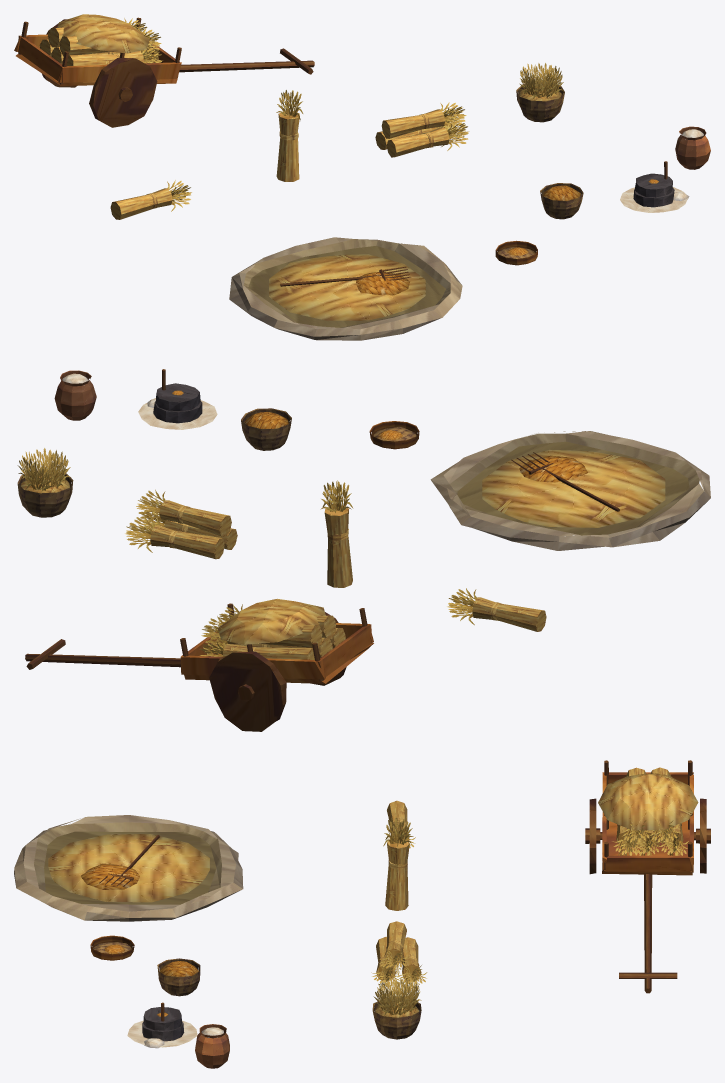
Rendered from colheita.glb.
3 views of the same model, one above another, from view 1: azimuth 30°, elevation 25°; view 2: azimuth 150°, elevation 25°; view 3: azimuth 270°, elevation 25° (orthographic). The views are drawn at different scales.
Visible parts, largest first — view 1: Eira, Carroca, Carroca_Carga, Feixe_Pilha, Cesto_Espigas, Feixe_EmPe, Feixe_Deitado, Cesto_Graos, Jarro_Farinha, Mo_Base, Peneira, Mo_Cima (+1 smaller); view 2: Eira, Carroca, Carroca_Carga, Feixe_Pilha, Cesto_Espigas, Feixe_EmPe, Feixe_Deitado, Cesto_Graos, Jarro_Farinha, Mo_Base, Peneira, Mo_Cima (+1 smaller); view 3: Eira, Carroca, Carroca_Carga, Cesto_Espigas, Feixe_Pilha, Feixe_EmPe, Cesto_Graos, Jarro_Farinha, Mo_Base, Peneira, Mo_Cima, Feixe_Deitado.
Boxes of the visible parts, x1=… form: Eira: x1=229, y1=237, x2=462, y2=340; Carroca: x1=14, y1=17, x2=314, y2=127; Carroca_Carga: x1=39, y1=14, x2=162, y2=66; Feixe_Pilha: x1=375, y1=102, x2=469, y2=157; Cesto_Espigas: x1=516, y1=63, x2=564, y2=122; Feixe_EmPe: x1=276, y1=90, x2=303, y2=181; Feixe_Deitado: x1=110, y1=180, x2=191, y2=219; Cesto_Graos: x1=540, y1=183, x2=583, y2=219; Jarro_Farinha: x1=675, y1=126, x2=710, y2=169; Mo_Base: x1=620, y1=187, x2=689, y2=212; Peneira: x1=495, y1=240, x2=537, y2=265; Mo_Cima: x1=634, y1=161, x2=672, y2=197; Eira: x1=430, y1=431, x2=710, y2=550; Carroca: x1=25, y1=603, x2=373, y2=731; Carroca_Carga: x1=200, y1=598, x2=345, y2=659; Feixe_Pilha: x1=125, y1=489, x2=237, y2=559; Cesto_Espigas: x1=17, y1=448, x2=73, y2=517; Feixe_EmPe: x1=320, y1=480, x2=353, y2=587; Feixe_Deitado: x1=447, y1=588, x2=546, y2=631; Cesto_Graos: x1=241, y1=408, x2=291, y2=450; Jarro_Farinha: x1=54, y1=370, x2=96, y2=420; Mo_Base: x1=138, y1=398, x2=217, y2=429; Peneira: x1=369, y1=421, x2=419, y2=449; Mo_Cima: x1=155, y1=369, x2=200, y2=410; Eira: x1=14, y1=815, x2=243, y2=921; Carroca: x1=585, y1=760, x2=710, y2=993; Carroca_Carga: x1=598, y1=767, x2=698, y2=855; Cesto_Espigas: x1=372, y1=978, x2=421, y2=1039; Feixe_Pilha: x1=371, y1=921, x2=427, y2=991; Feixe_EmPe: x1=383, y1=817, x2=413, y2=910; Cesto_Graos: x1=157, y1=958, x2=200, y2=996; Jarro_Farinha: x1=195, y1=1024, x2=229, y2=1068; Mo_Base: x1=127, y1=1020, x2=197, y2=1048; Peneira: x1=90, y1=935, x2=134, y2=960; Mo_Cima: x1=143, y1=1002, x2=181, y2=1030; Feixe_Deitado: x1=385, y1=800, x2=415, y2=848.
Bounding box in the file's own units: 7.18 × 1.37 × 8.32.
Materials: 2 (2 with a texture image).
